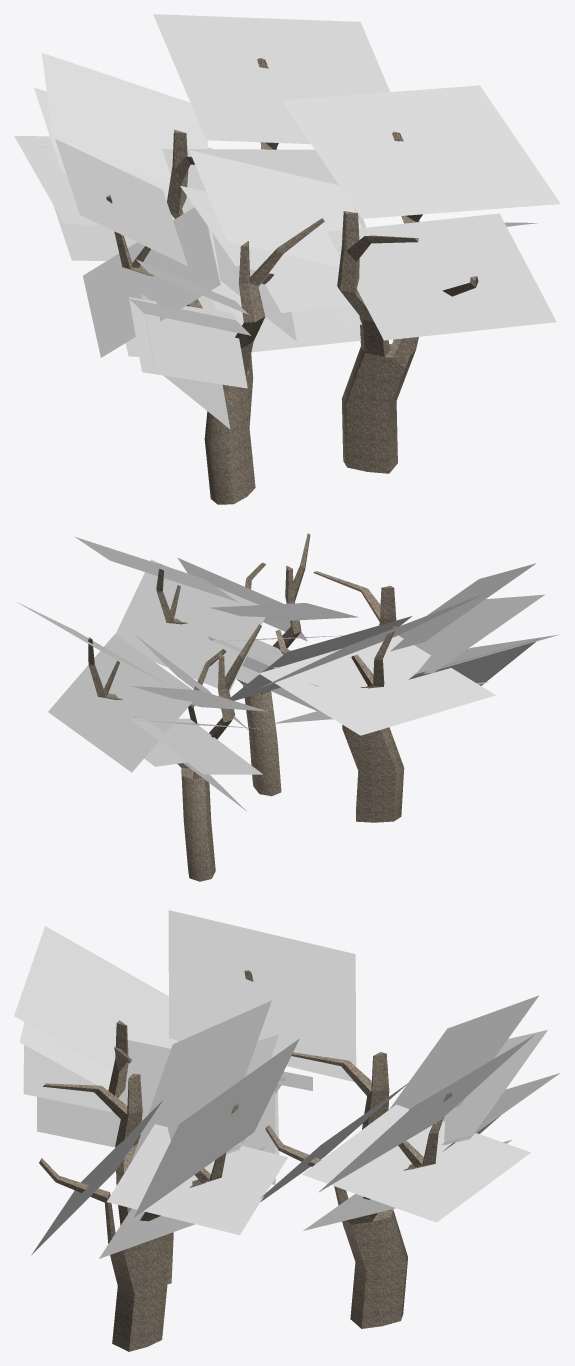
Rendered from lowpolytreesIHOPE.fbx.
The picture shows the model from 3 angles, top to bottom: view 1: azimuth 30°, elevation 25°; view 2: azimuth 150°, elevation 25°; view 3: azimuth 270°, elevation 25°; orthographic projection. The views are drawn at different scales.
Parts seen in each view (by area): view 1: w001, w002, w, Box009, Box005, Box010; view 2: w, w002, w001, Box005, Box010, Box009; view 3: w, w001, w002, Box010, Box009, Box005.
Boxes of the visible parts, x1,y1,x2,y2 form: w001: [180, 85, 560, 352]; w002: [14, 14, 390, 260]; w: [55, 139, 296, 428]; Box009: [337, 131, 478, 473]; Box005: [106, 195, 324, 504]; Box010: [167, 58, 278, 218]; w: [231, 563, 559, 735]; w002: [17, 602, 266, 811]; w001: [74, 536, 358, 710]; Box005: [275, 571, 404, 822]; Box010: [88, 624, 261, 881]; Box009: [156, 533, 310, 796]; w: [14, 910, 356, 1184]; w001: [31, 1000, 299, 1258]; w002: [260, 995, 559, 1230]; Box010: [265, 1052, 452, 1328]; Box009: [39, 1073, 238, 1351]; Box005: [108, 970, 253, 1283].
Size of the model in its own units: 123 by 75.97 by 126.
Materials: 1 (1 with a texture image).
